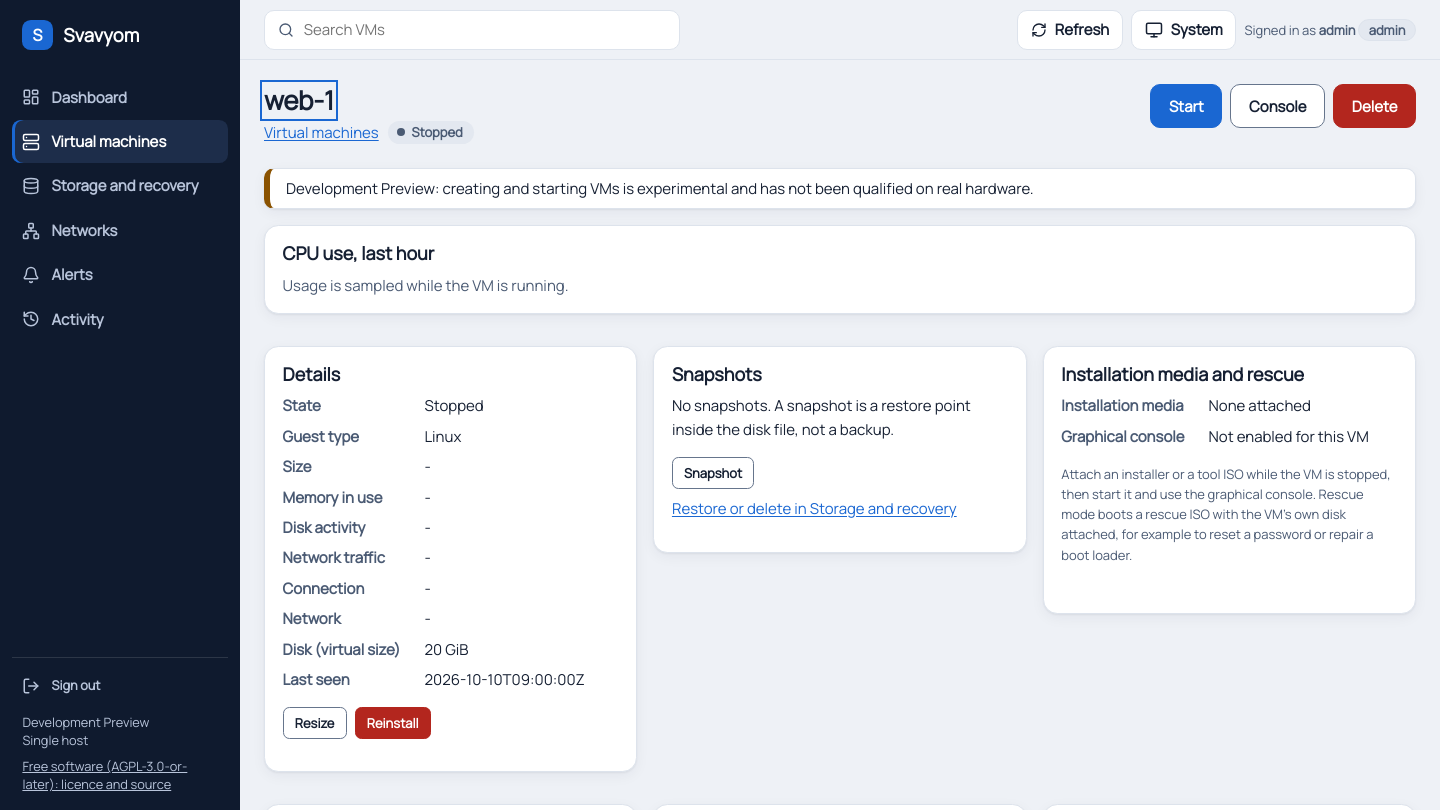
storage actions on the VM page › snapshots and backs up without a dialog, with no params
Click the button with aria-label "Snapshot web-1" at (713, 473), box [672, 457, 754, 489]
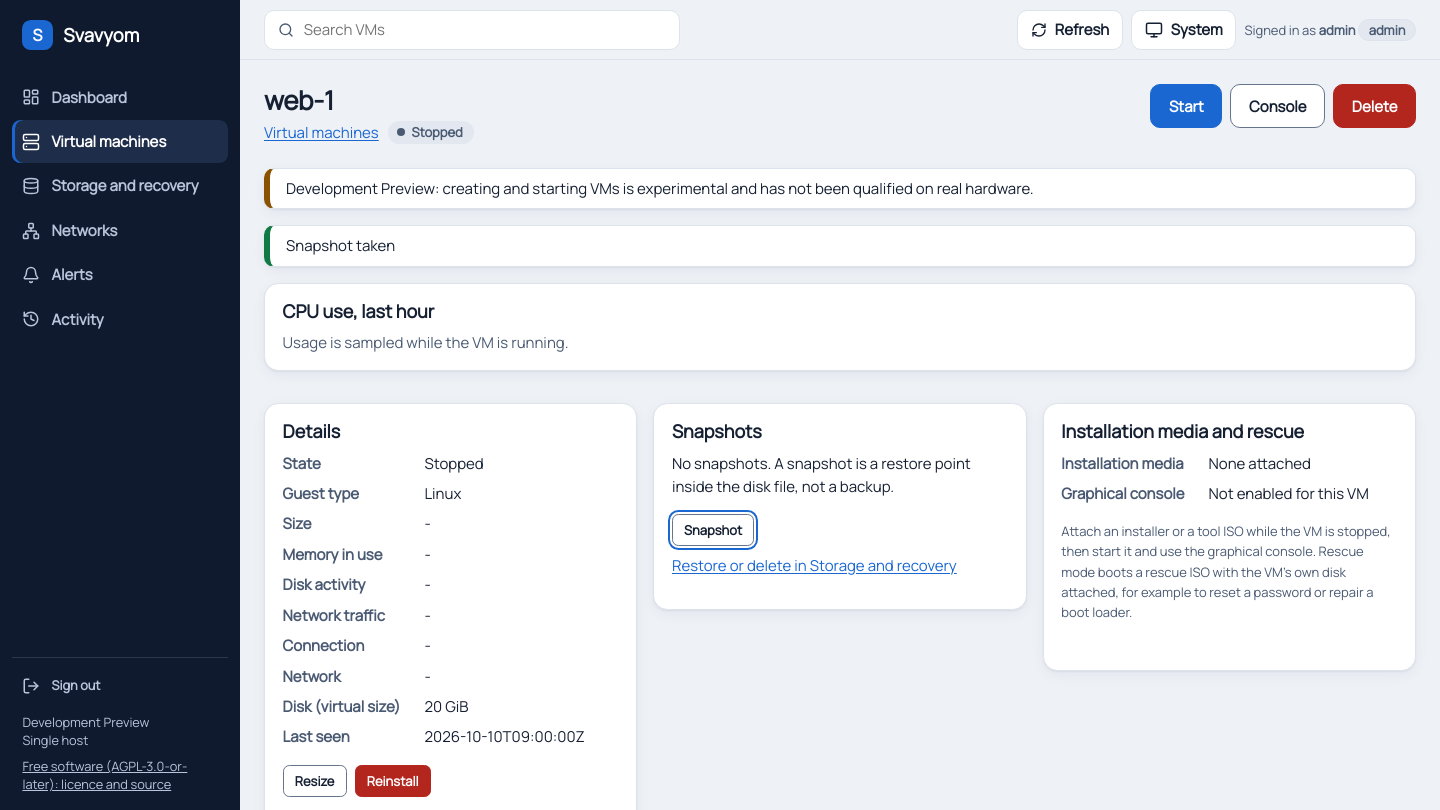
Check: the text "Snapshot taken" is shown, box [264, 225, 1416, 267]
